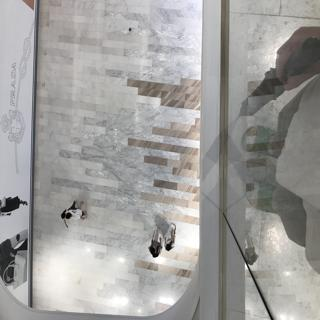person: (56, 203, 93, 228), (163, 218, 180, 254), (146, 226, 161, 260)
